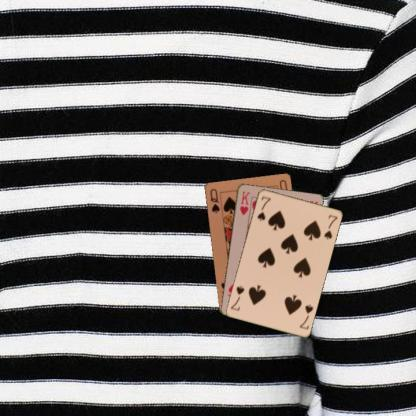7s: (254, 193, 272, 222), (296, 301, 314, 330)
Kh: (237, 188, 251, 216)
Qs: (207, 186, 221, 214)
